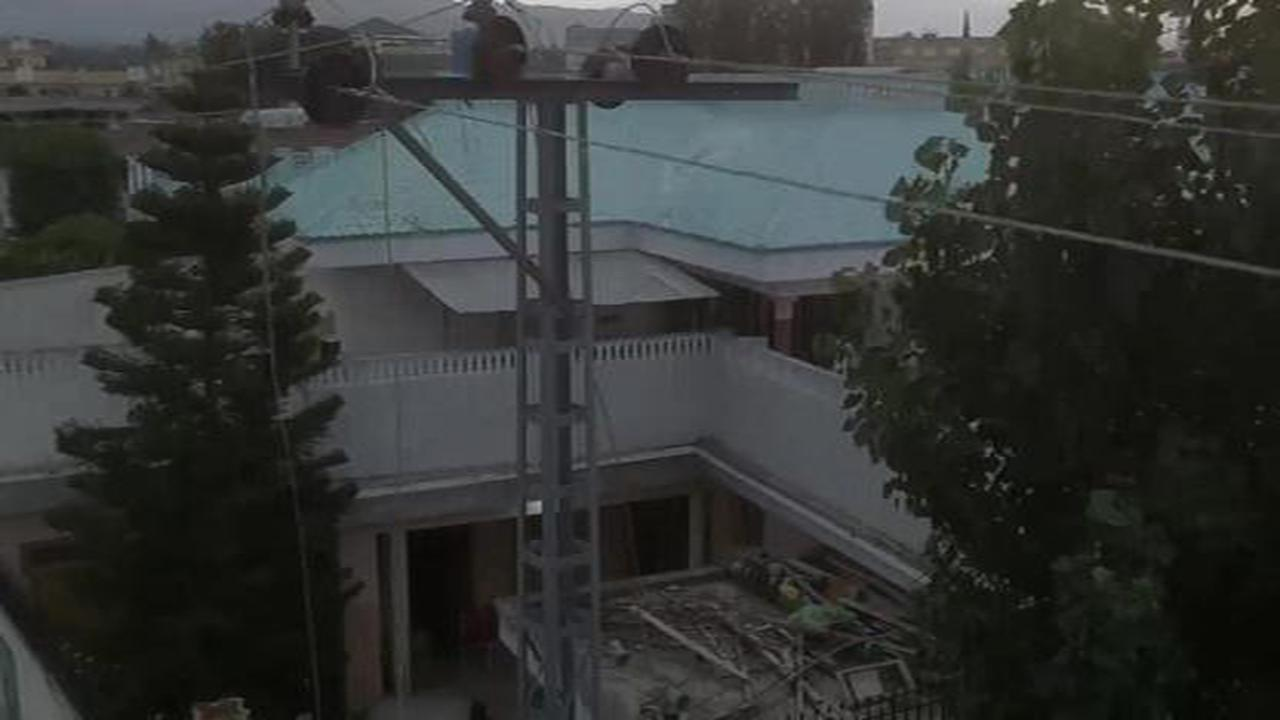insulator_disc: (295, 46, 377, 135), (469, 17, 535, 93), (630, 21, 698, 94), (577, 52, 635, 108)
